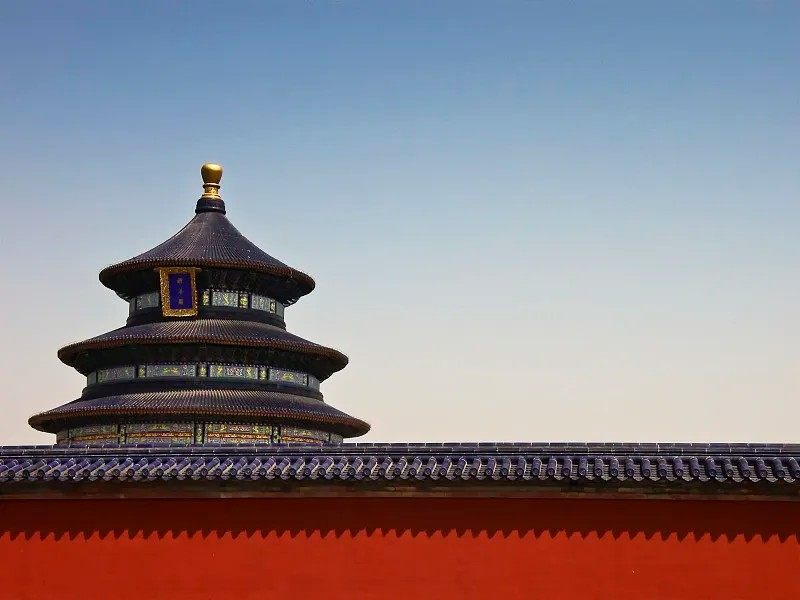Heaven: (28, 163, 372, 443)
